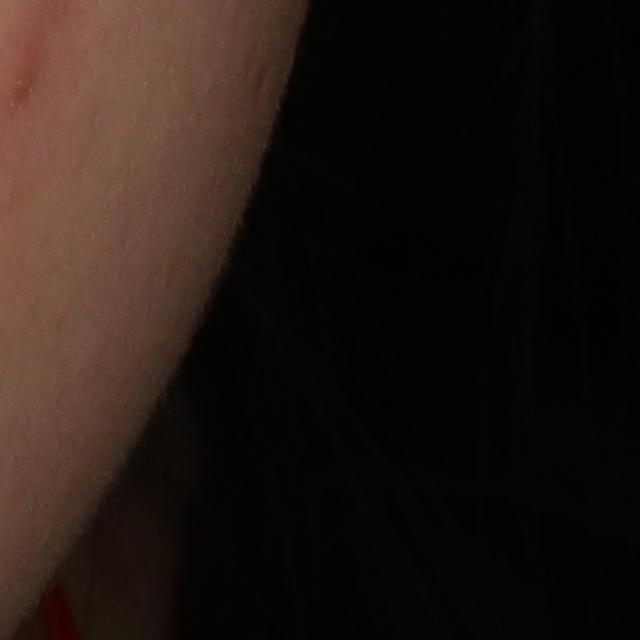papule: (3, 56, 39, 112)
